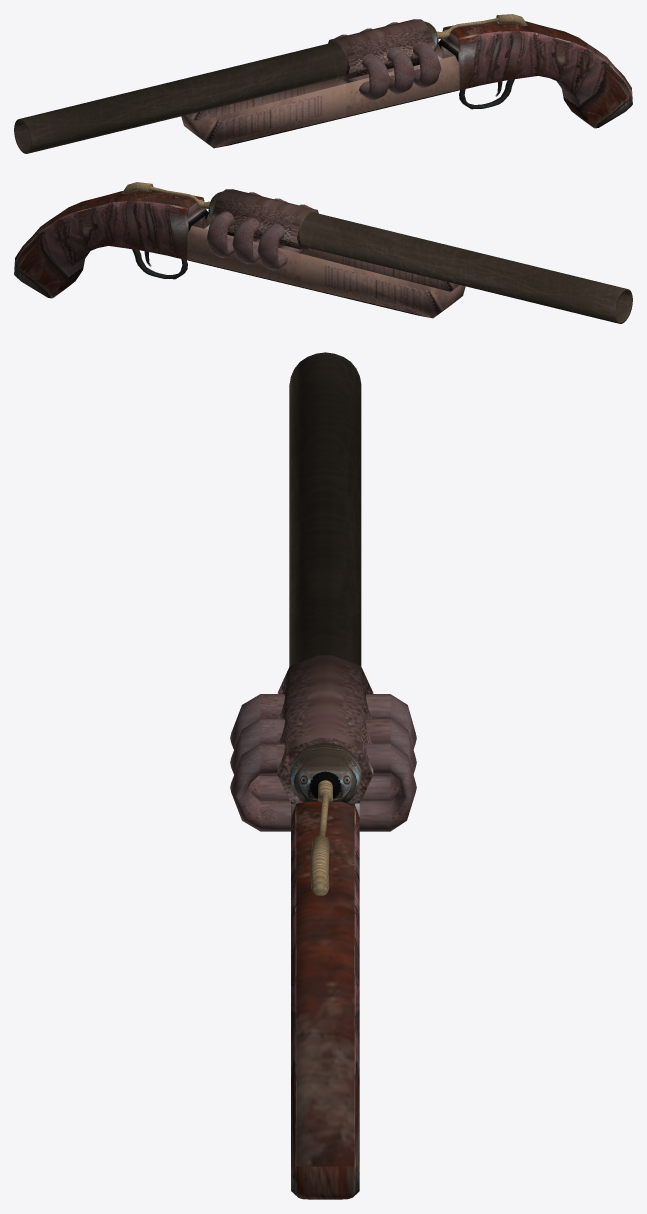
File: gun2.fbx
3 views of the same model, one above another, from view 1: azimuth 30°, elevation 25°; view 2: azimuth 150°, elevation 25°; view 3: azimuth 270°, elevation 25° (orthographic). The views are drawn at different scales.
Visible parts, largest first — view 1: gun2; view 2: gun2; view 3: gun2.
Part boxes in pixels (bbox=[...]): gun2: bbox=[14, 14, 632, 153]; gun2: bbox=[14, 182, 632, 323]; gun2: bbox=[230, 352, 416, 1199].
Size of the model in its own units: 495 by 113 by 66.16.
Materials: 1 (1 with a texture image).
